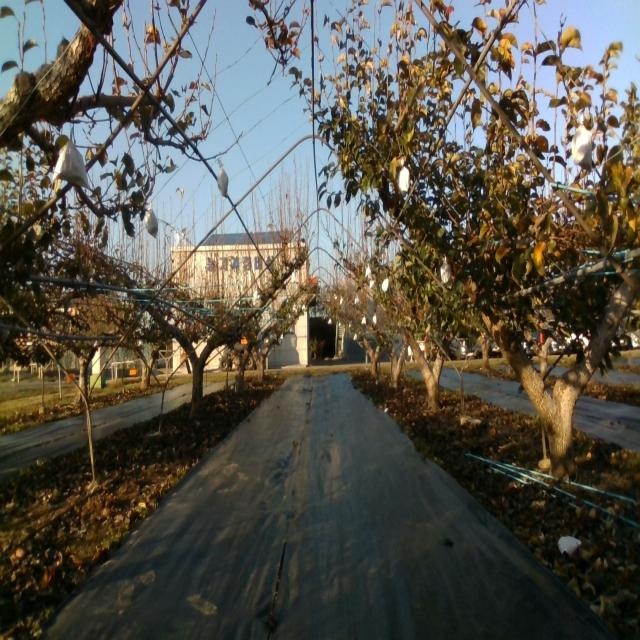pearbags: (50, 140, 89, 188), (568, 122, 594, 175), (216, 159, 229, 200), (145, 202, 158, 240), (398, 166, 410, 200), (440, 261, 452, 285)
